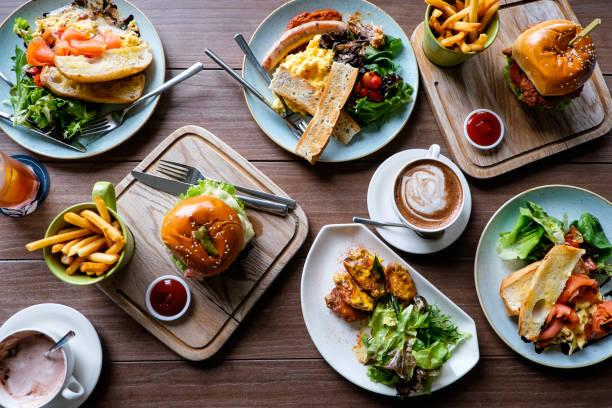Braised Crucian Carp: (411, 1, 609, 179), (241, 0, 411, 165), (1, 1, 168, 162), (473, 180, 612, 371), (144, 274, 191, 321)
